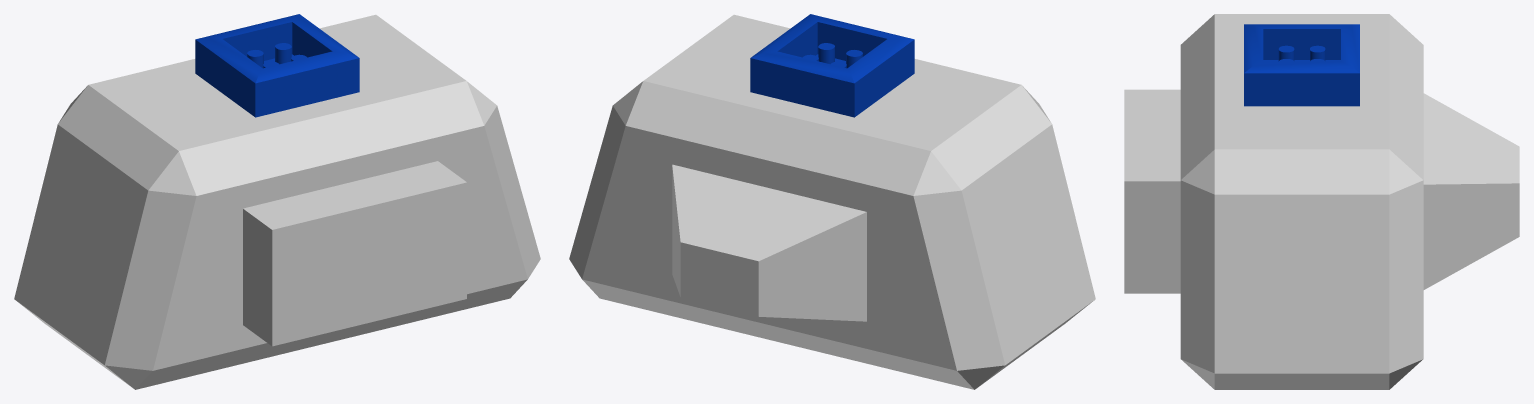
The model's file is AngularVelocitySensor.gltf.
The picture shows the model from 3 angles, left to right: view 1: azimuth 30°, elevation 25°; view 2: azimuth 150°, elevation 25°; view 3: azimuth 270°, elevation 25°; orthographic projection. The views are drawn at different scales.
Parts seen in each view (by area): view 1: base; view 2: base; view 3: base.
Boxes of the visible parts, x1,y1,x2,y2 form: base: (14,14,540,389); base: (569,14,1095,389); base: (1124,14,1519,389).
Size of the model in its own units: 0.25 by 0.1456 by 0.2035.
